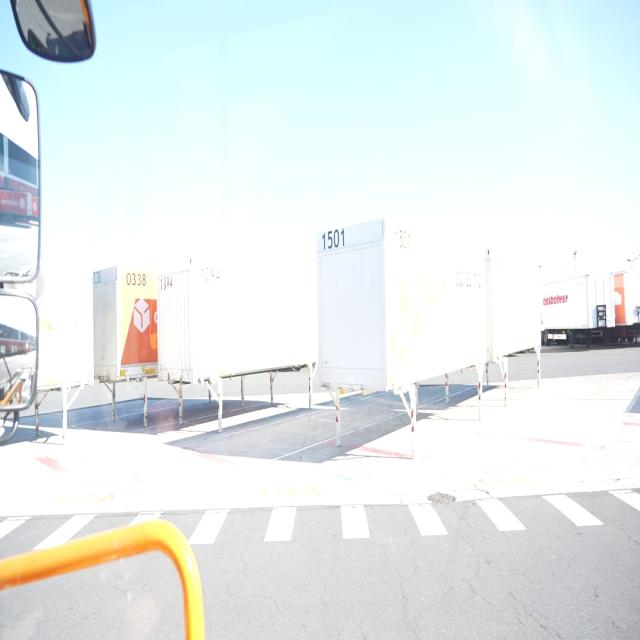Code: (317, 225, 347, 252), (124, 268, 147, 290)
